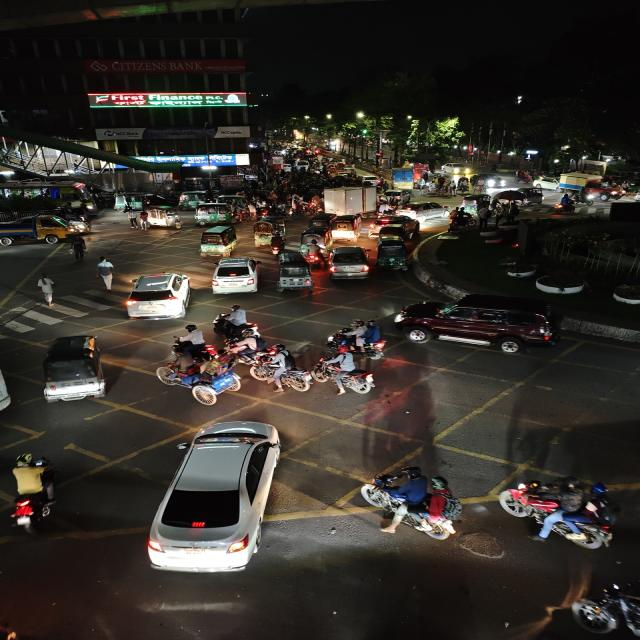bus: (4, 179, 100, 216)
car: (148, 418, 288, 578), (398, 294, 561, 354), (120, 270, 196, 322), (207, 255, 267, 297), (322, 244, 374, 282), (398, 198, 450, 222), (441, 161, 470, 177), (482, 173, 505, 188), (534, 178, 558, 191), (359, 175, 385, 186)
cng: (34, 332, 110, 406), (275, 254, 317, 296), (197, 225, 240, 258), (374, 238, 412, 274), (193, 201, 233, 225), (146, 206, 184, 230), (113, 193, 142, 210), (178, 192, 204, 209), (461, 193, 480, 215)
motorcycle: (494, 473, 624, 552), (358, 464, 466, 542), (1, 452, 62, 532), (241, 336, 314, 399), (318, 353, 381, 397), (325, 318, 390, 360), (216, 303, 261, 341), (223, 337, 260, 369), (554, 192, 579, 214), (266, 234, 288, 256)
pedestrian: (33, 273, 61, 307), (94, 256, 119, 290), (66, 235, 89, 263), (121, 209, 141, 231), (477, 203, 493, 230), (506, 200, 522, 223), (491, 202, 505, 228), (455, 175, 470, 193)
pickup_van: (2, 216, 70, 247), (474, 178, 486, 192)
rickshaw: (492, 472, 624, 552), (358, 464, 467, 540), (150, 363, 245, 408), (327, 214, 364, 243), (250, 220, 277, 248), (390, 167, 420, 188), (419, 180, 449, 199), (302, 193, 325, 214), (512, 170, 532, 184)
truck: (322, 187, 390, 216), (558, 172, 622, 200)
